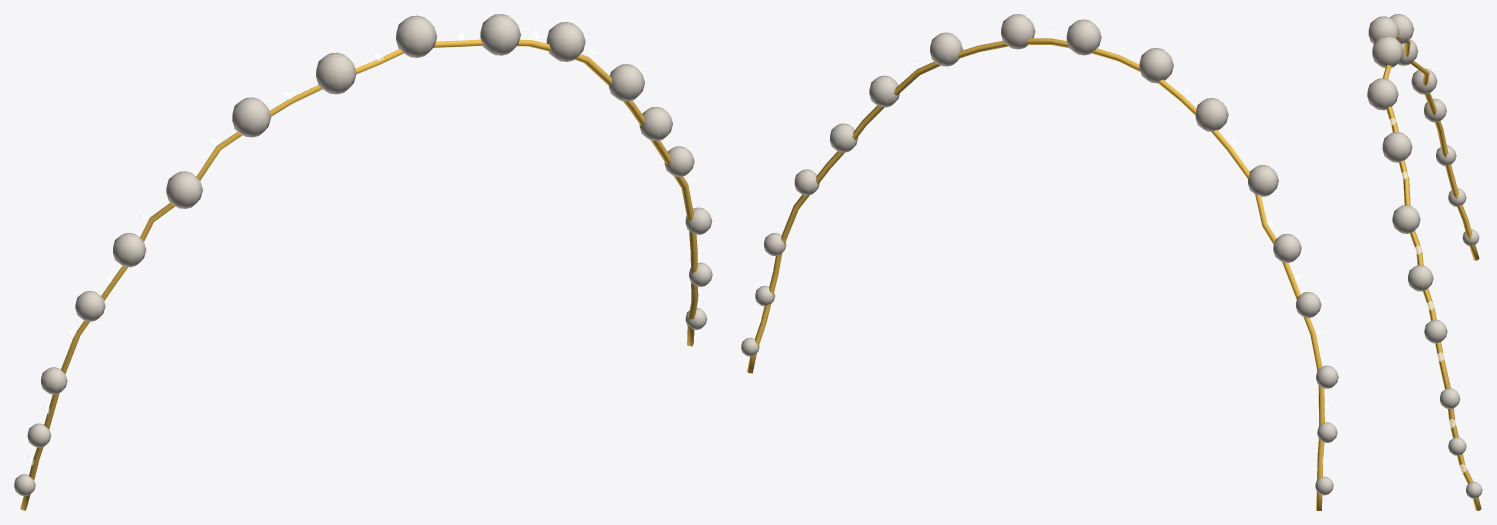
Rendered from pearl_headband.glb.
3 views of the same model, side by side, from view 1: azimuth 30°, elevation 25°; view 2: azimuth 150°, elevation 25°; view 3: azimuth 270°, elevation 25° (orthographic). The views are drawn at different scales.
Visible parts, largest first — view 1: pearl_headband; view 2: pearl_headband; view 3: pearl_headband.
Part boxes in pixels (x1=…): pearl_headband: x1=14, y1=14, x2=712, y2=510; pearl_headband: x1=741, y1=14, x2=1338, y2=510; pearl_headband: x1=1367, y1=14, x2=1482, y2=510.
Bounding box in the file's own units: 0.2633 × 0.1645 × 0.0493.
